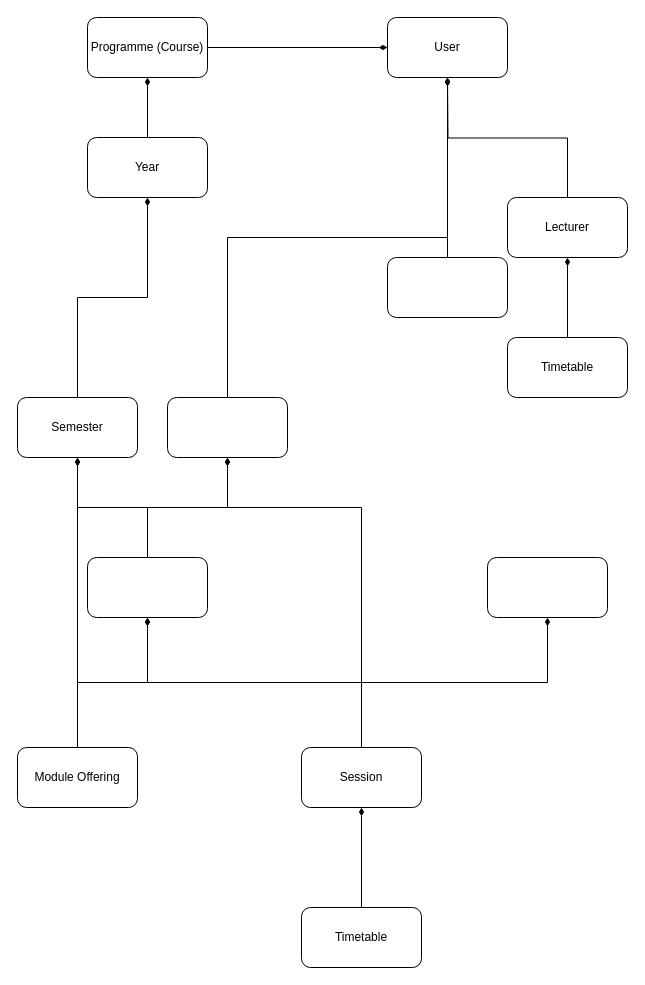
This 645x985 diagram has some shape labels left out. The centre of each missing label's shape, as x and y in pixels:
Admin: (x=447, y=287)
Module: (x=147, y=587)
Room: (x=547, y=587)
Student Group: (x=227, y=427)
